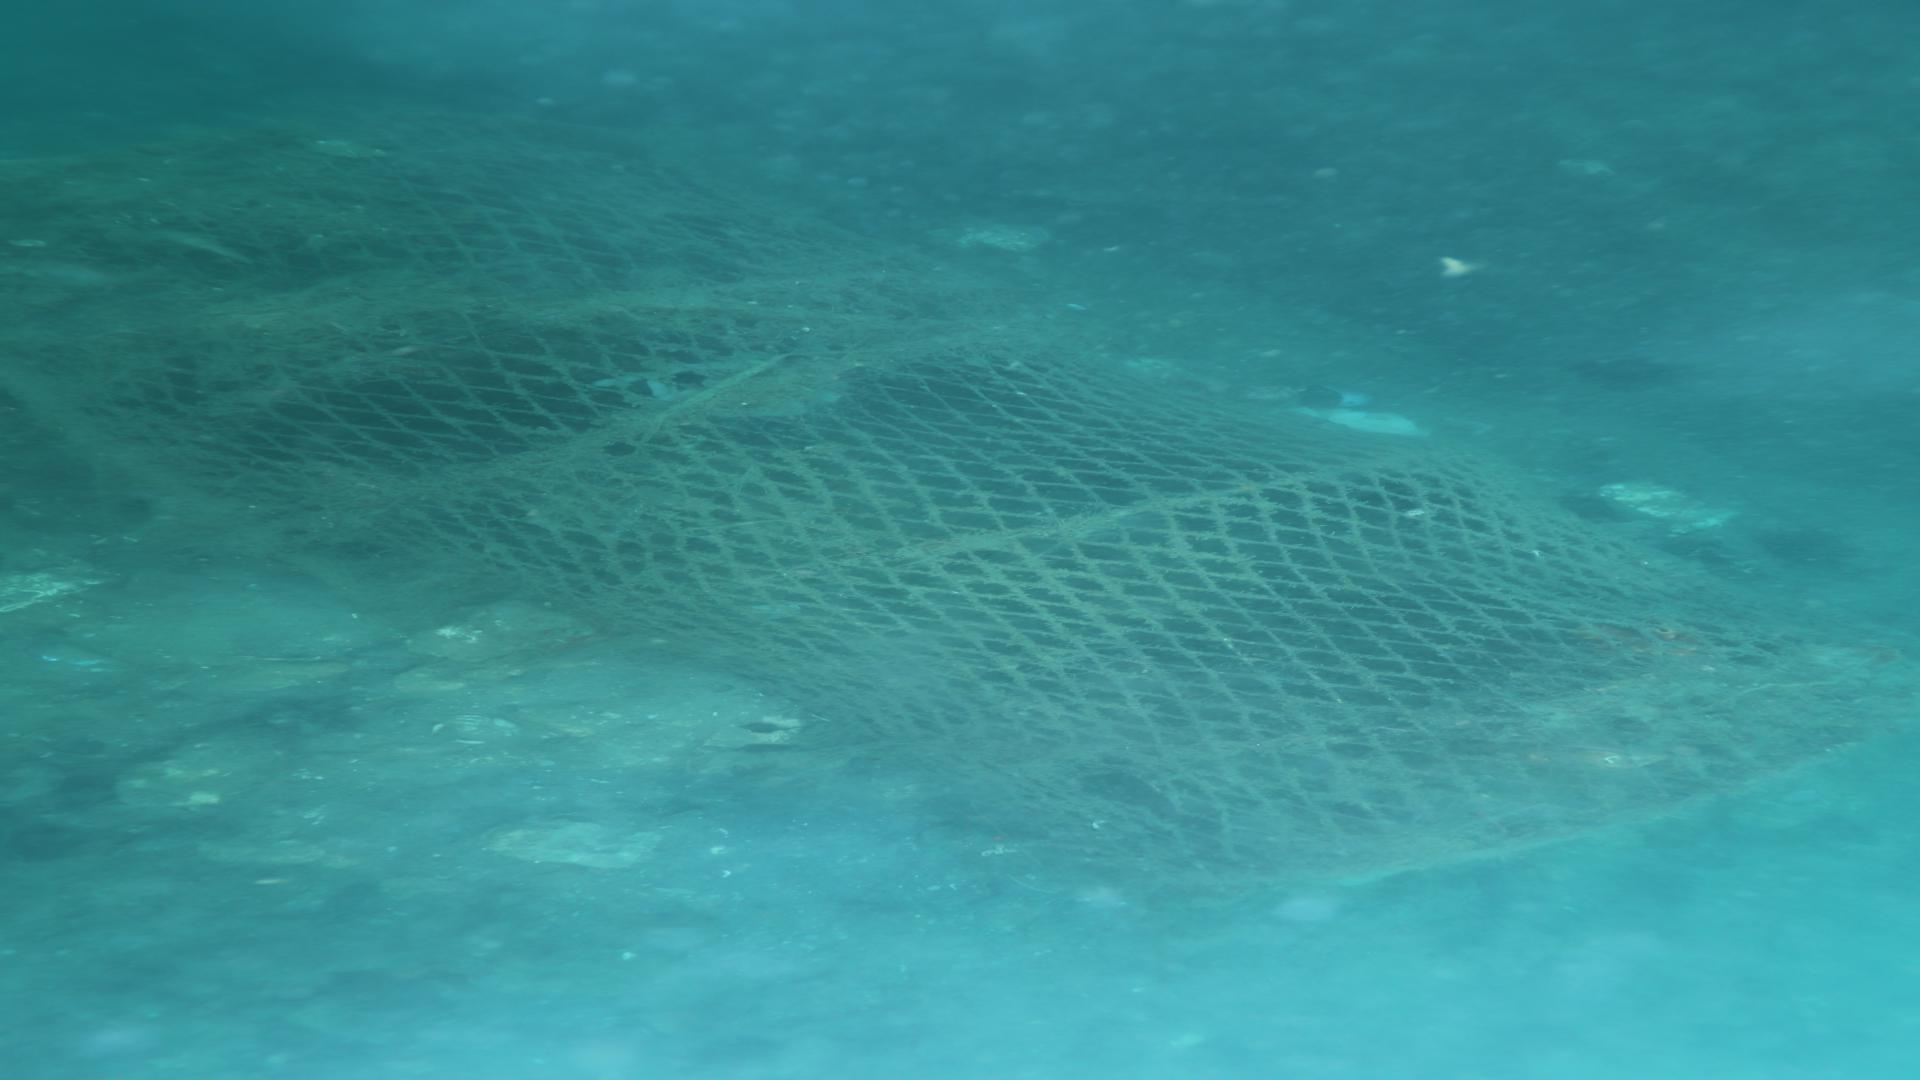spring fish trap: (0, 109, 1920, 913)
